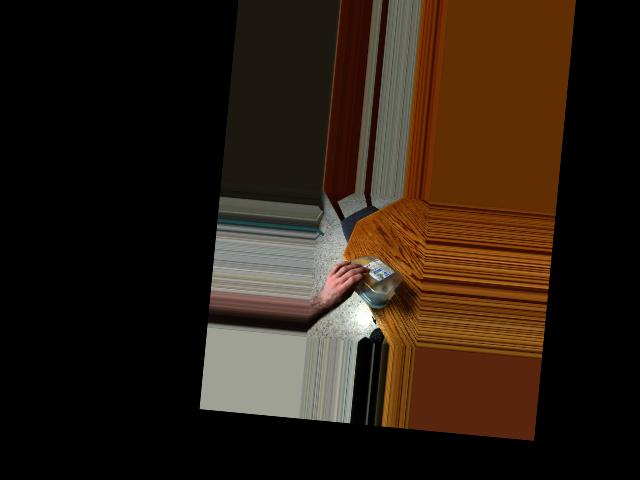cheese: (333, 250, 405, 307)
